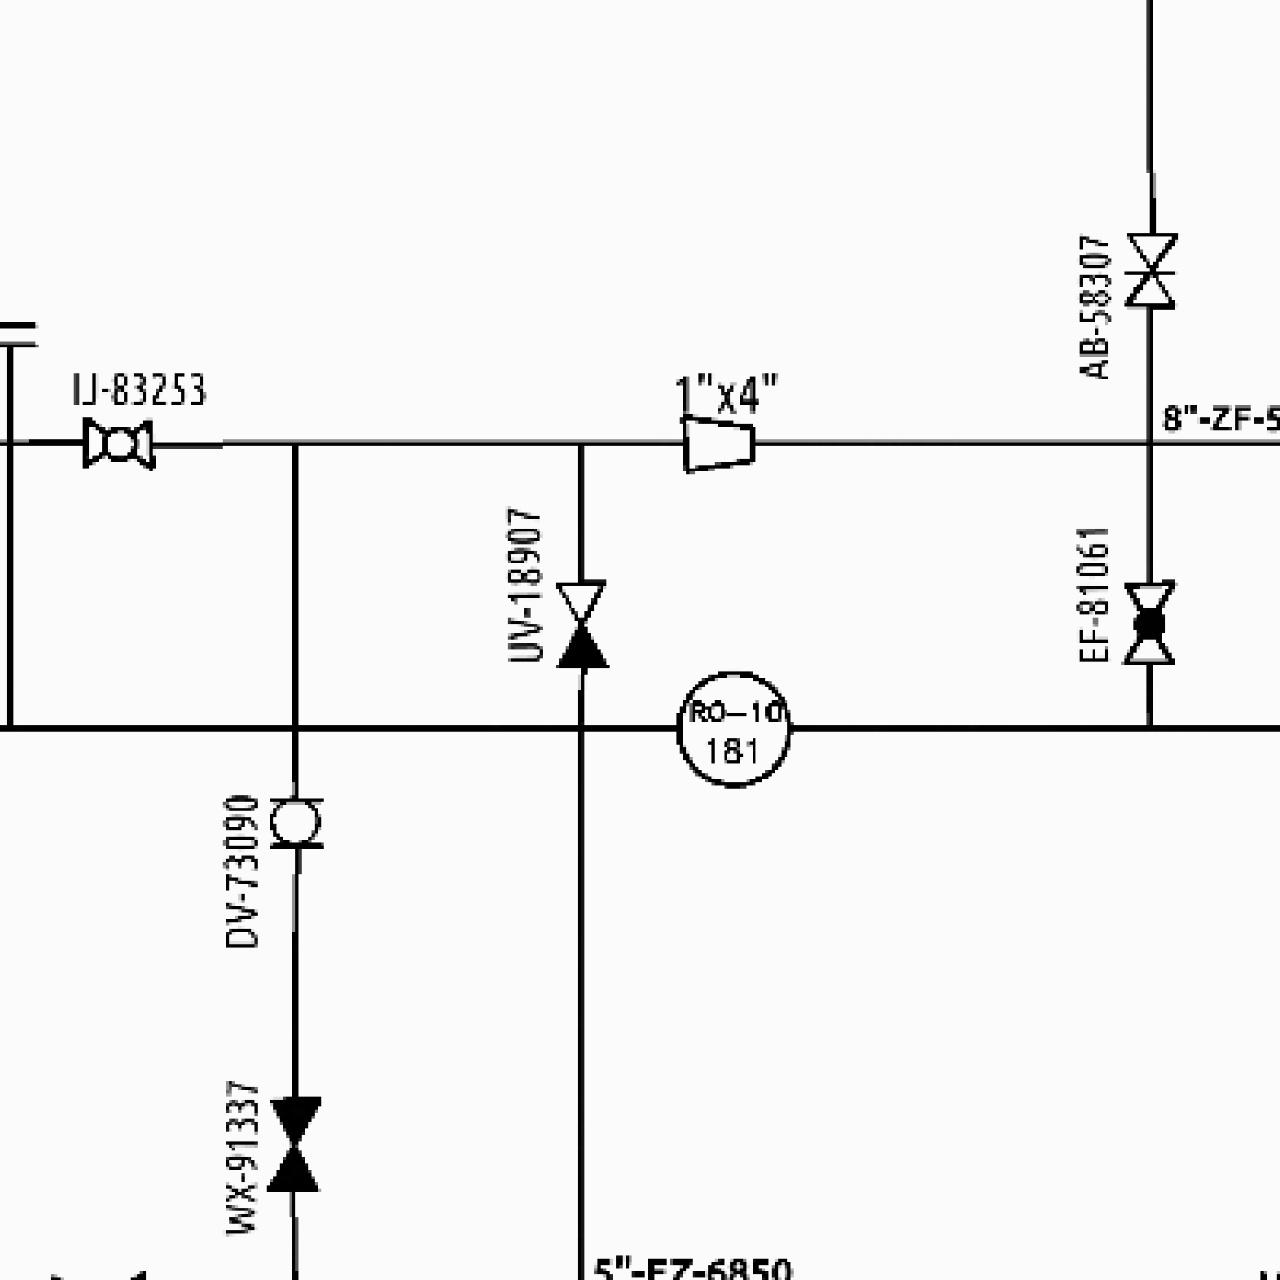Control-Panel: (669, 665, 796, 791)
Half closed valve: (549, 576, 612, 672)
